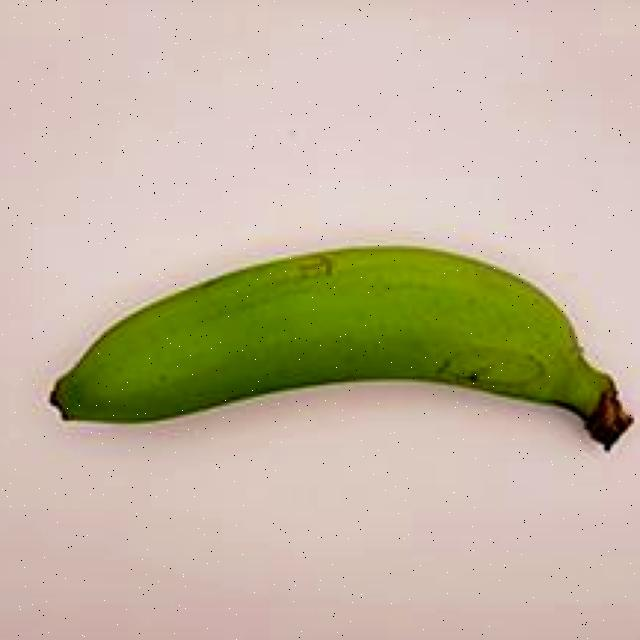Raw: (15, 222, 640, 477)
